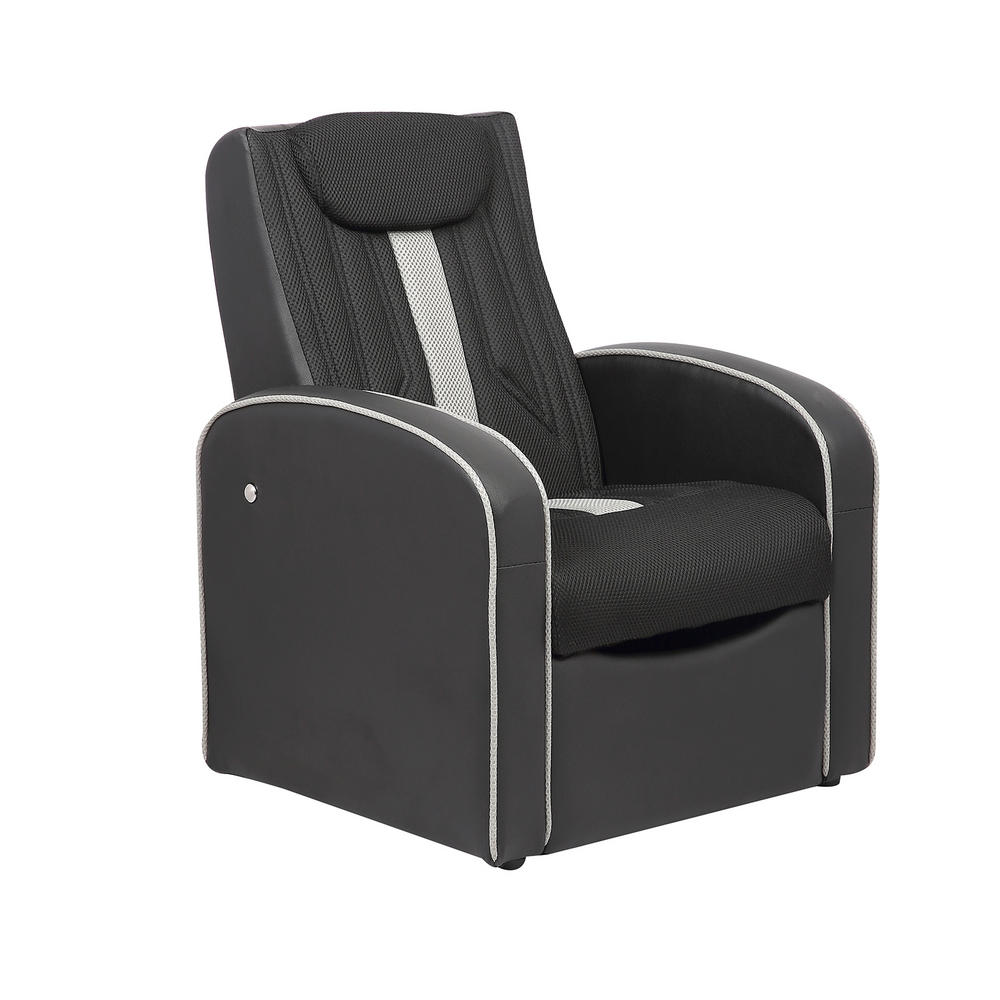chairs: (194, 106, 883, 885)
